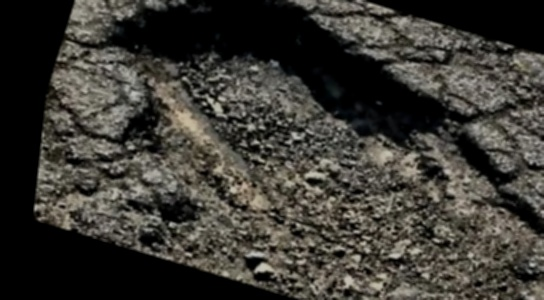pothole: (39, 0, 544, 300)
